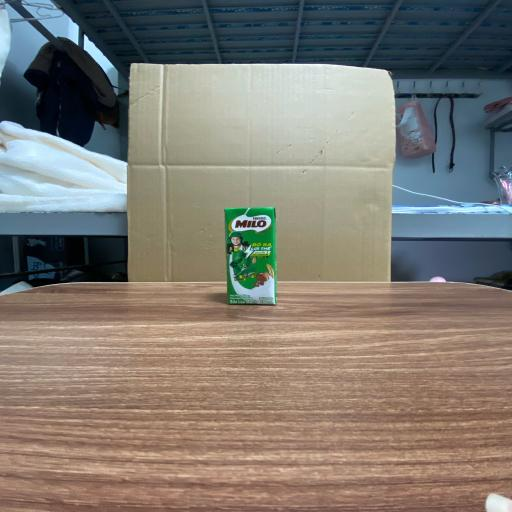milo: (226, 207, 276, 307)
